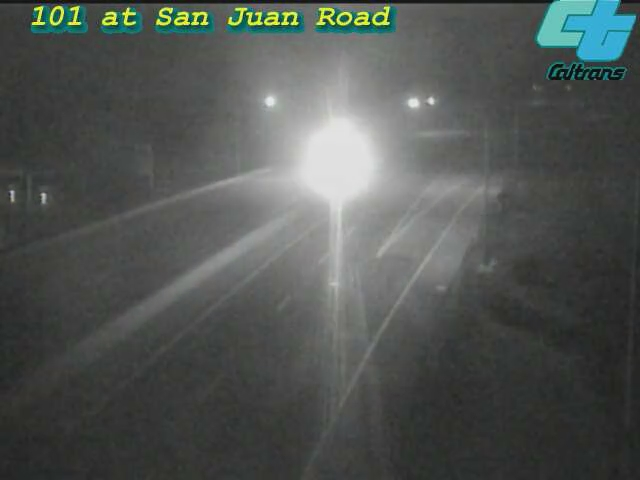vehicle: (302, 132, 352, 182)
